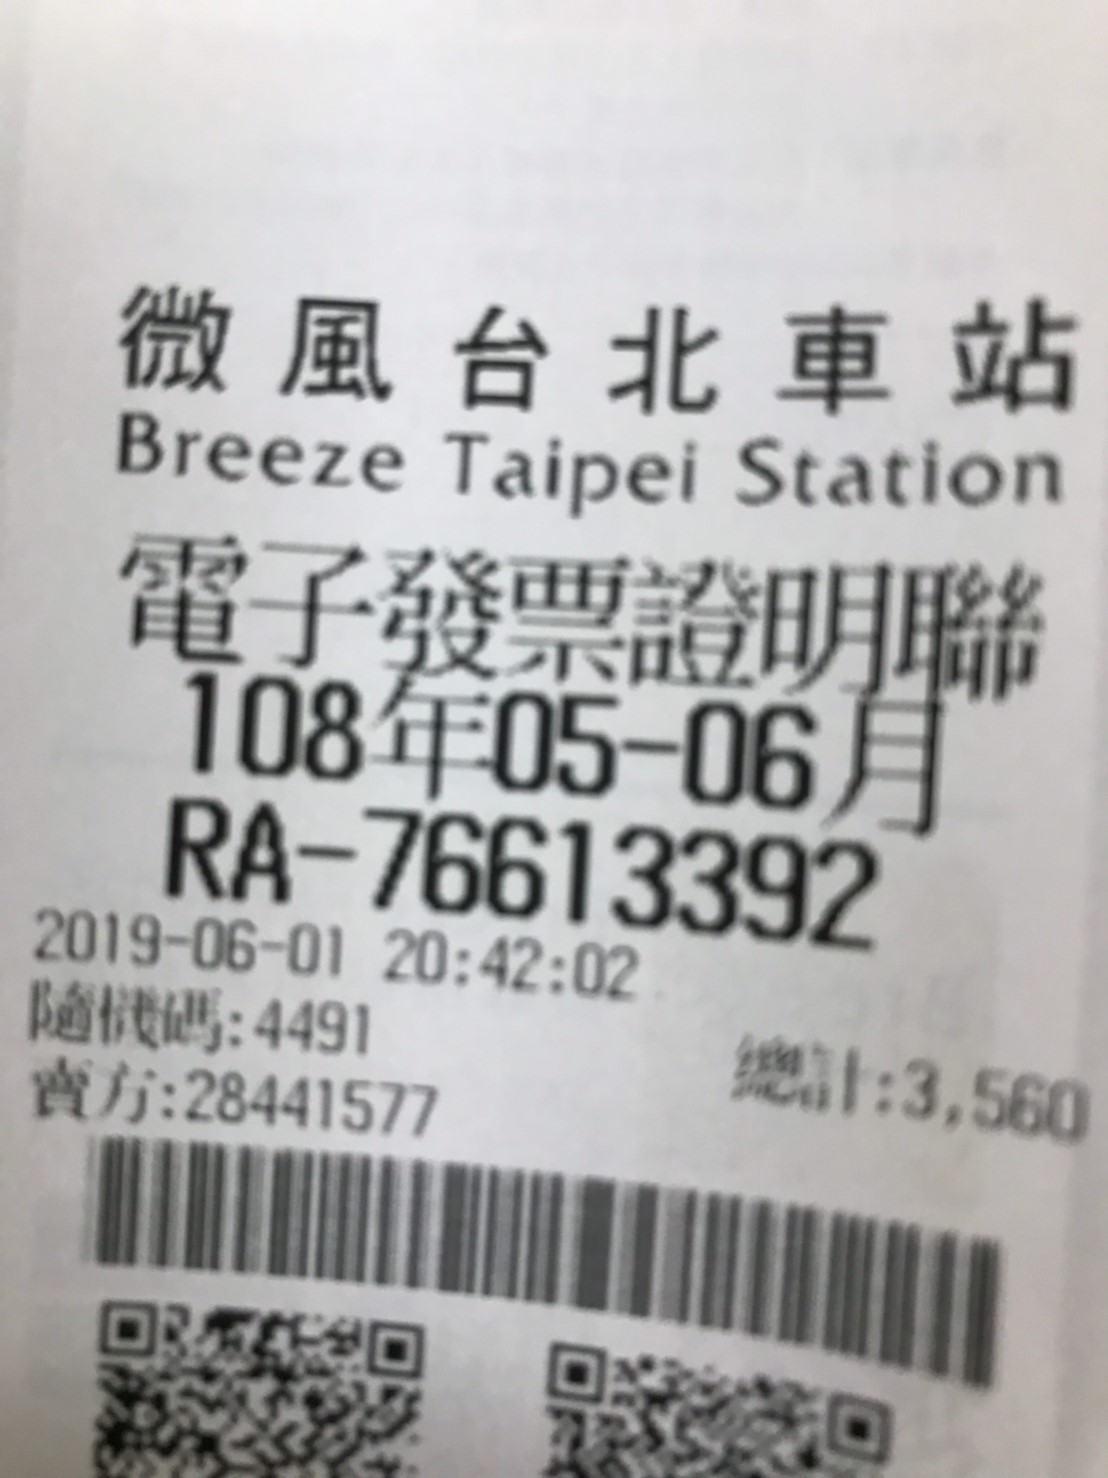Date_New: (184, 667, 946, 847)
Number_New: (358, 806, 888, 957)
